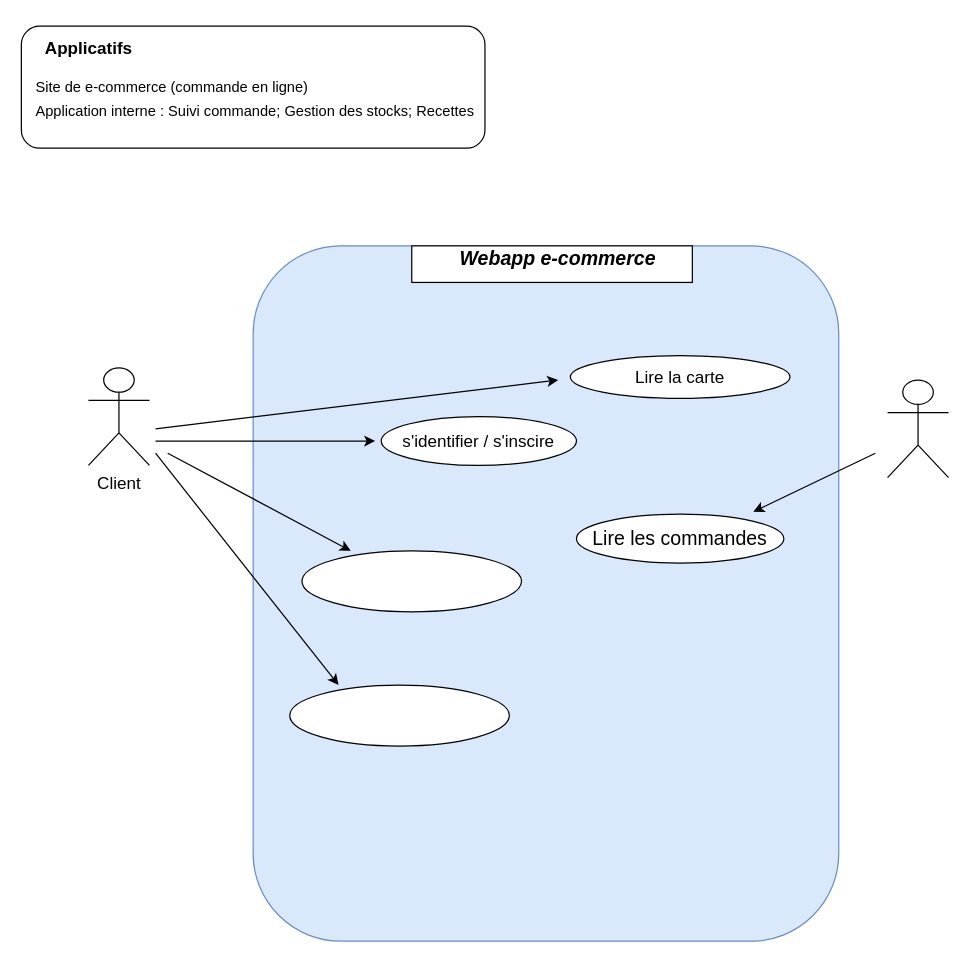
Image size: 974x963. Some labels were removed from this diagram. The shapes that lost their labels are listed below. From the top down, each one's centre as x and y in pixels, then its label:
At (917,428): "Pizzaiolo".
At (411,581): "commander une pizza".
At (399,715): "Payer sa commande".
